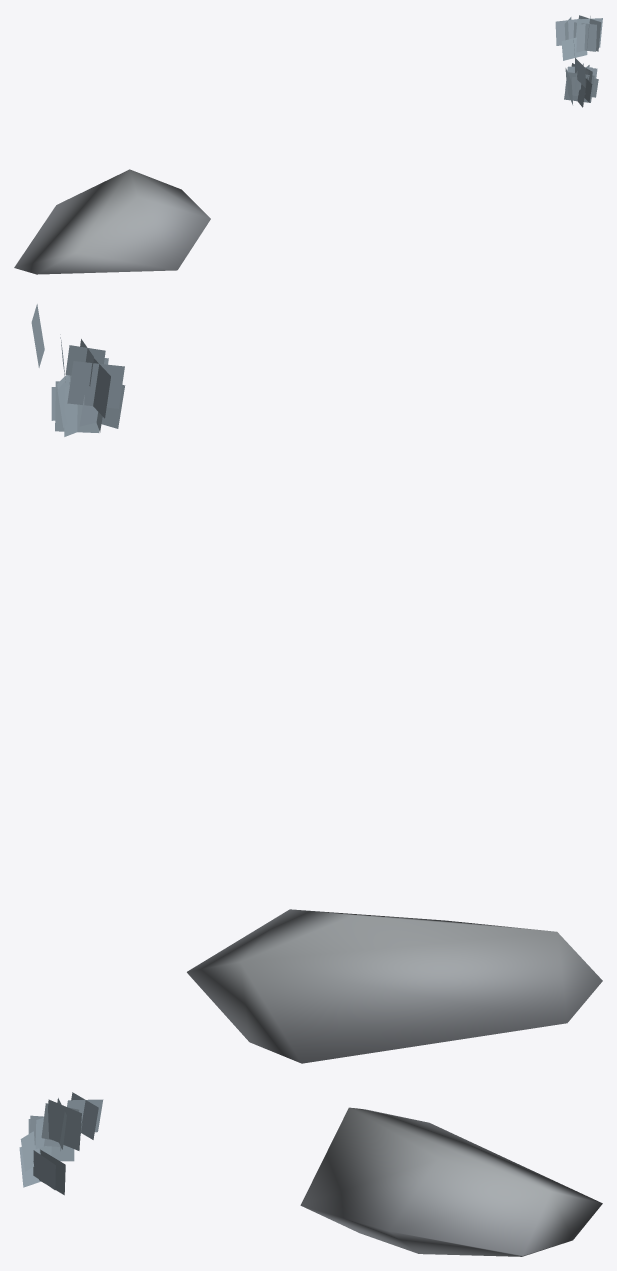
The model's file is frost_land_scatter_c11_11_lod1.glb.
3 renders of one model, top to bottom at view 1: azimuth 30°, elevation 25°; view 2: azimuth 150°, elevation 25°; view 3: azimuth 270°, elevation 25°, orthographic. The views are drawn at different scales.
Parts seen in each view (by area): view 1: frost_land_scatter_c11_11_lod1; view 2: frost_land_scatter_c11_11_lod1; view 3: frost_land_scatter_c11_11_lod1.
Part boxes in pixels (bbox=[...]): frost_land_scatter_c11_11_lod1: bbox=[14, 15, 602, 274]; frost_land_scatter_c11_11_lod1: bbox=[31, 304, 602, 1063]; frost_land_scatter_c11_11_lod1: bbox=[19, 1092, 602, 1256].
Size of the model in its own units: 8.64 by 4.49 by 6.57.
